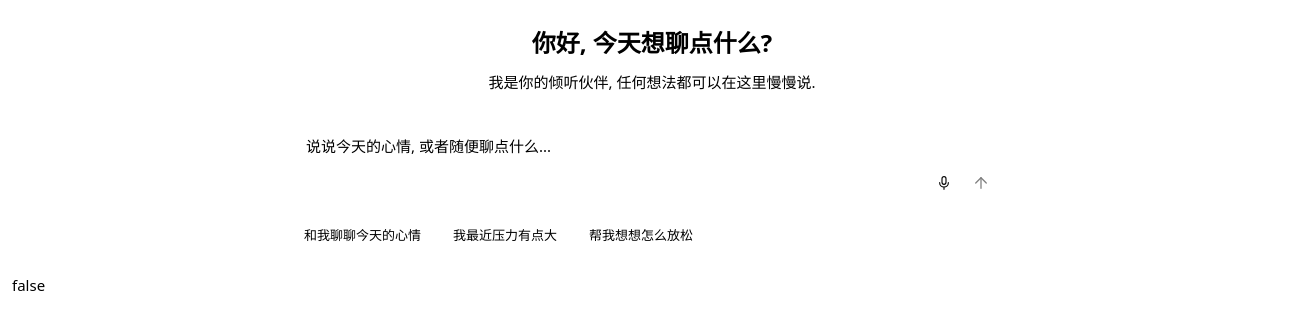
Test case: ChatView (输入区接线) › 会话标题 (主区左上): 发送绑定会话后工具条左上显示标题 (sessions 列表为事实源), hero 态无标题
Click the button "我最近压力有点大" at [505, 236], box top-left (441, 222), bottom-right (569, 249)
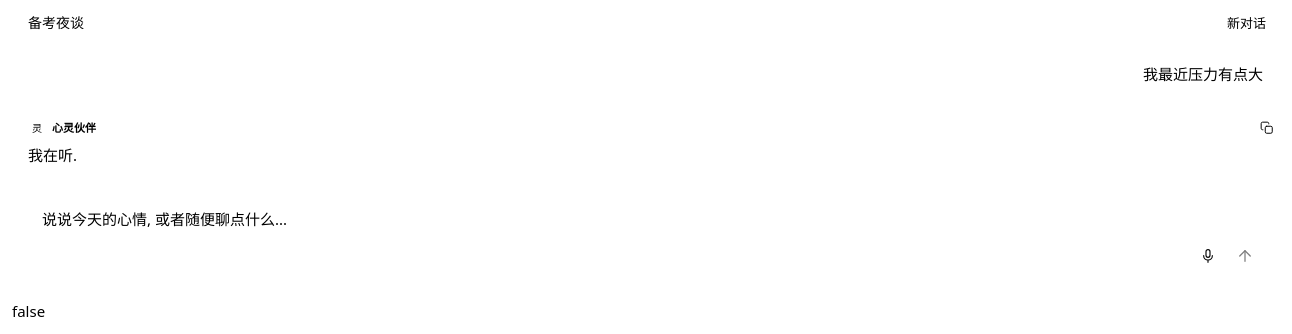
Check: the text "备考夜谈" is shown, box top-left (28, 13), bottom-right (84, 32)
Check: the button "新对话" is shown, box top-left (1217, 10), bottom-right (1276, 37)
